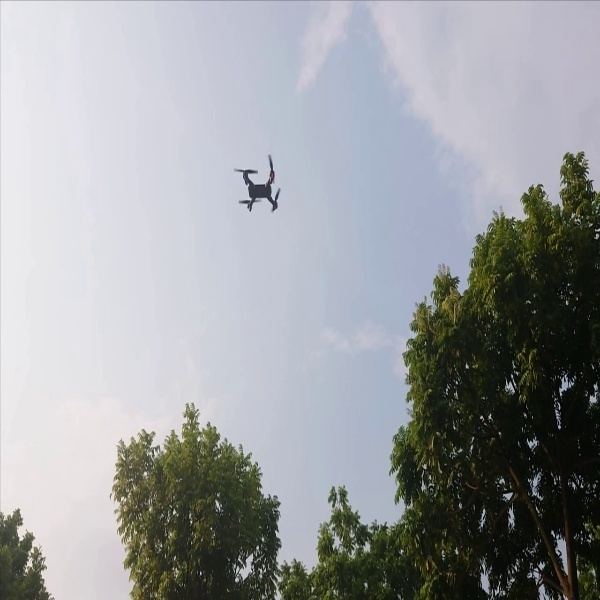drone: (223, 146, 294, 227)
